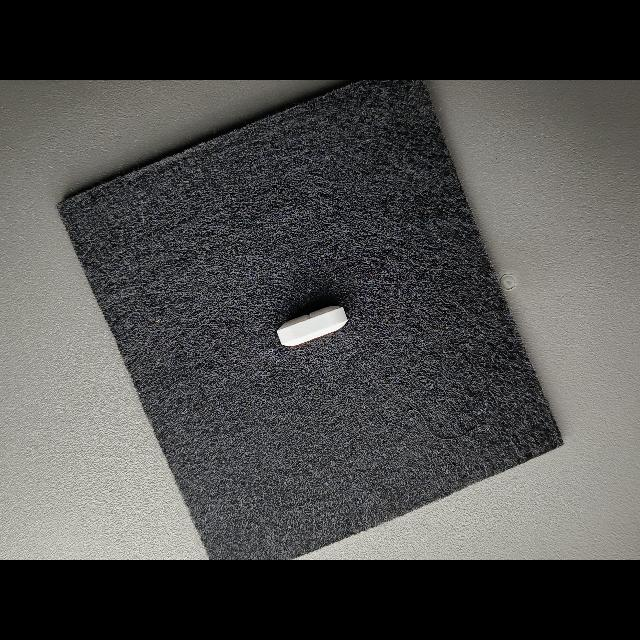Intact Pill: (277, 306, 348, 346)
